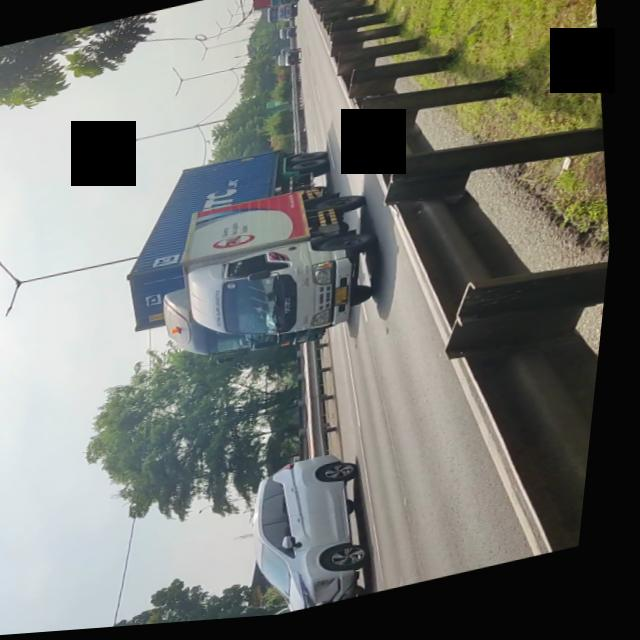Golongan I: (243, 446, 405, 623)
Golongan II: (178, 176, 407, 357)
